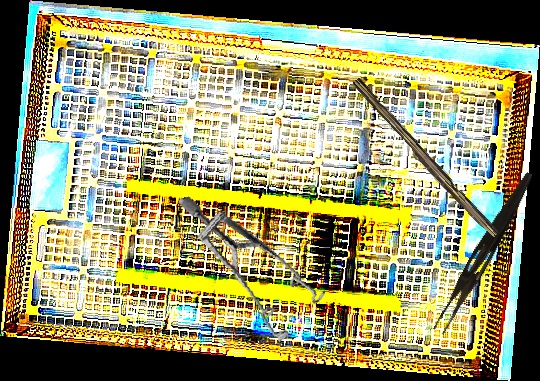Dressing Forceps: (432, 167, 536, 338)
Scalpel Handle: (347, 77, 502, 241)
Speculum: (177, 172, 334, 357)
